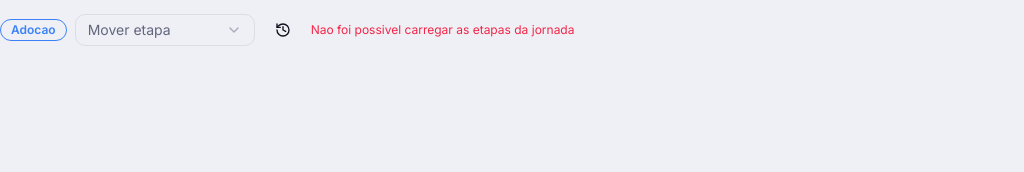
AccountJourneyControl › explica o historico vazio e o erro de etapas
Click the button titled "Historico da jornada" at (283, 30), box left=263, top=12, right=303, bottom=48
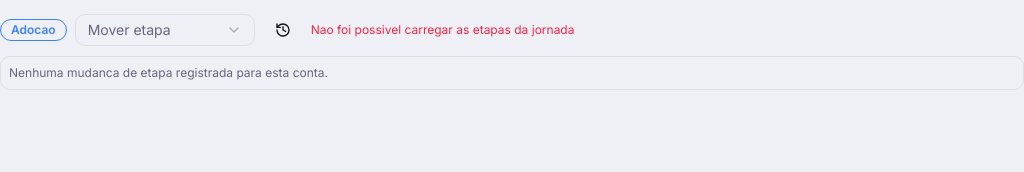
Expected: the message reads "Nao foi possivel carregar as etapas da jornada", left=311, top=22, right=574, bottom=37
Now the text "Nenhuma mudanca de etapa registrada para esta conta." is shown, box left=9, top=65, right=328, bottom=80
